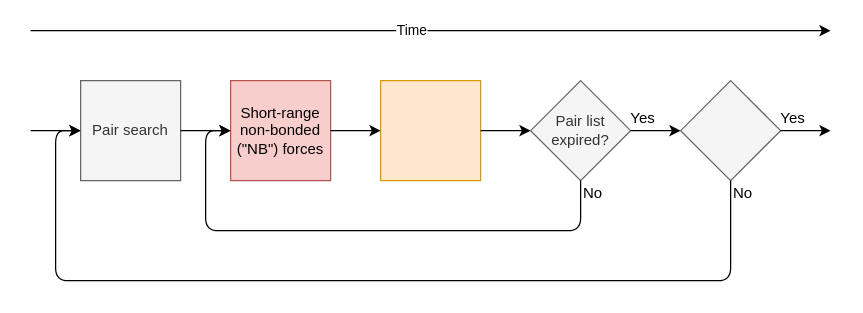
Some shapes in this 863 by 313 pixel diagram are drawn without their labels. Each missing label, with the centre of its shape:
"Done?" goes at point (730, 130).
"Update" goes at point (430, 130).
